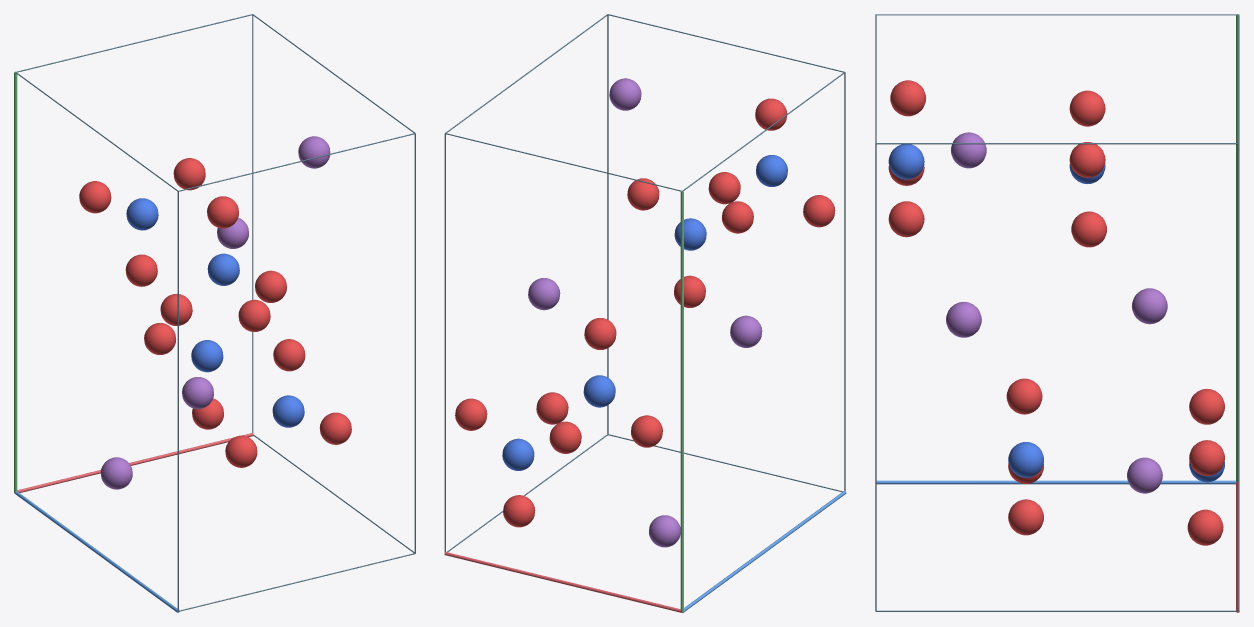
Rendered from chat-niter.glb.
3 views of the same model, side by side, from view 1: azimuth 30°, elevation 25°; view 2: azimuth 150°, elevation 25°; view 3: azimuth 270°, elevation 25° (orthographic). The views are drawn at different scales.
Visible parts, largest first — view 1: Ô mạng và các trục a, b, c, O2 · O · 1 (×8), N · N · 1 (×4), O1 · O · 1 (×4), K · K · 1 (×4); view 2: Ô mạng và các trục a, b, c, O2 · O · 1 (×8), K · K · 1 (×4), N · N · 1 (×4), O1 · O · 1 (×4); view 3: Ô mạng và các trục a, b, c, O2 · O · 1 (×6), O1 · O · 1 (×4), K · K · 1 (×4), N · N · 1 (×2).
Boxes of the visible parts, left/top/right/bottom form: Ô mạng và các trục a, b, c: left=14, top=14, right=415, bottom=612; O2 · O · 1 (×8): left=79, top=158, right=351, bottom=467; N · N · 1 (×4): left=126, top=198, right=304, bottom=427; O1 · O · 1 (×4): left=125, top=196, right=305, bottom=429; K · K · 1 (×4): left=100, top=136, right=330, bottom=489; Ô mạng và các trục a, b, c: left=444, top=14, right=846, bottom=612; O2 · O · 1 (×8): left=455, top=172, right=835, bottom=453; K · K · 1 (×4): left=528, top=78, right=762, bottom=547; N · N · 1 (×4): left=502, top=155, right=787, bottom=470; O1 · O · 1 (×4): left=503, top=98, right=787, bottom=527; Ô mạng và các trục a, b, c: left=875, top=14, right=1239, bottom=612; O2 · O · 1 (×6): left=888, top=90, right=1224, bottom=535; O1 · O · 1 (×4): left=890, top=80, right=1223, bottom=545; K · K · 1 (×4): left=946, top=132, right=1167, bottom=493; N · N · 1 (×2): left=888, top=144, right=1043, bottom=477.
Size of the model in its own units: 5.5 by 9.21 by 6.48.
